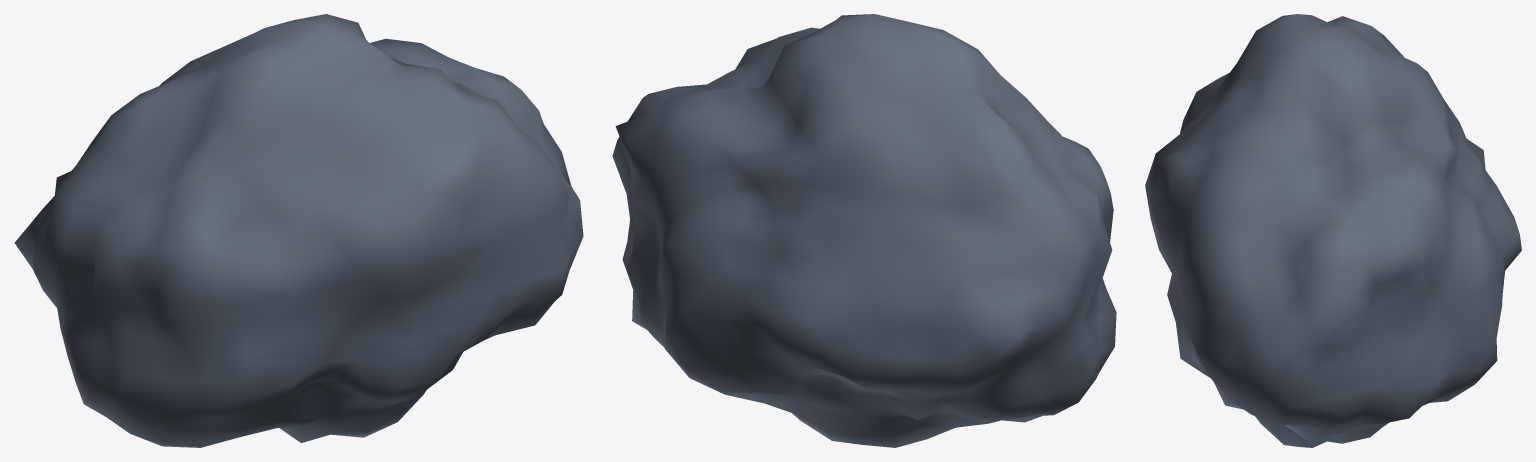
The model's file is asteroid_03.glb.
3 renders of one model, left to right at view 1: azimuth 30°, elevation 25°; view 2: azimuth 150°, elevation 25°; view 3: azimuth 270°, elevation 25°, orthographic. The views are drawn at different scales.
Visible parts, largest first — view 1: Asteroid_03; view 2: Asteroid_03; view 3: Asteroid_03.
Boxes of the visible parts, x1=… form: Asteroid_03: x1=14, y1=14, x2=583, y2=447; Asteroid_03: x1=612, y1=14, x2=1116, y2=447; Asteroid_03: x1=1145, y1=14, x2=1521, y2=447.
Size of the model in its own units: 2.5 by 2.04 by 1.78.
